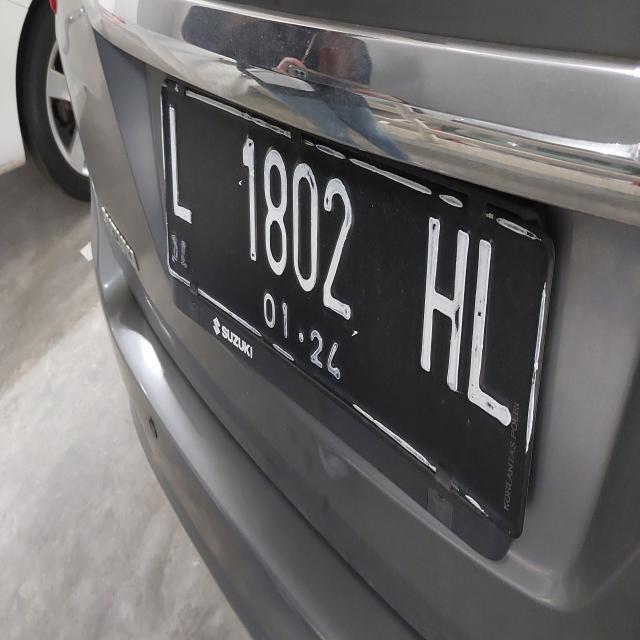0: (290, 154, 322, 298)
1: (228, 122, 270, 278)
2: (315, 162, 368, 336)
8: (253, 130, 296, 286)
H: (402, 176, 470, 394)
L: (456, 217, 530, 448), (162, 94, 201, 234)
